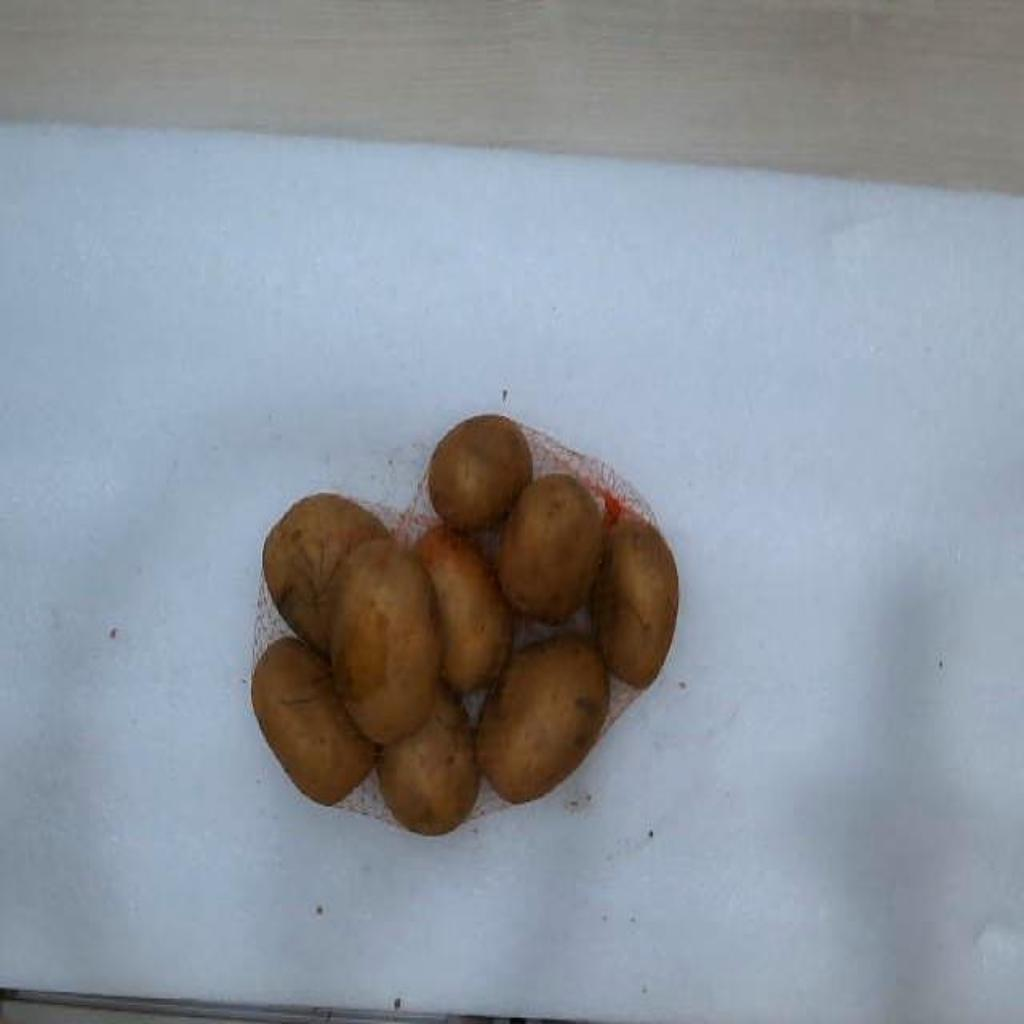potato: (330, 539, 440, 744), (478, 632, 608, 801), (252, 637, 376, 805), (262, 493, 388, 652), (414, 525, 512, 692), (378, 683, 480, 835), (498, 475, 604, 621), (592, 517, 678, 687), (428, 413, 532, 531)
